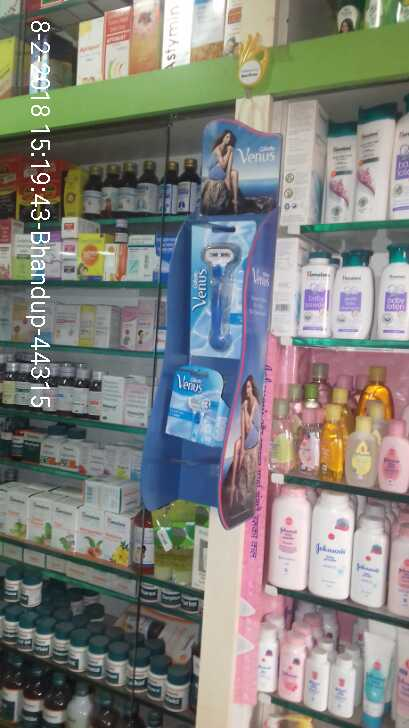venus: (184, 221, 261, 356), (156, 367, 228, 444)
